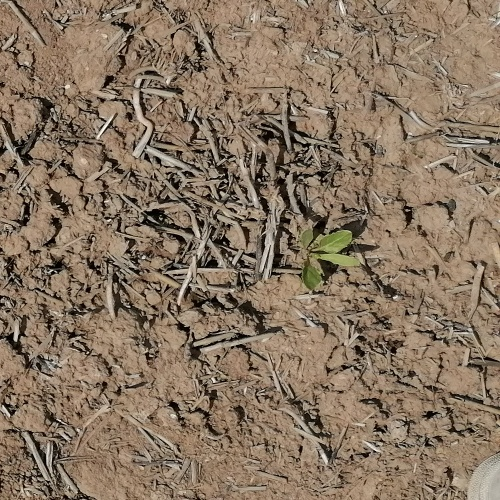beet: (299, 229, 359, 290)
